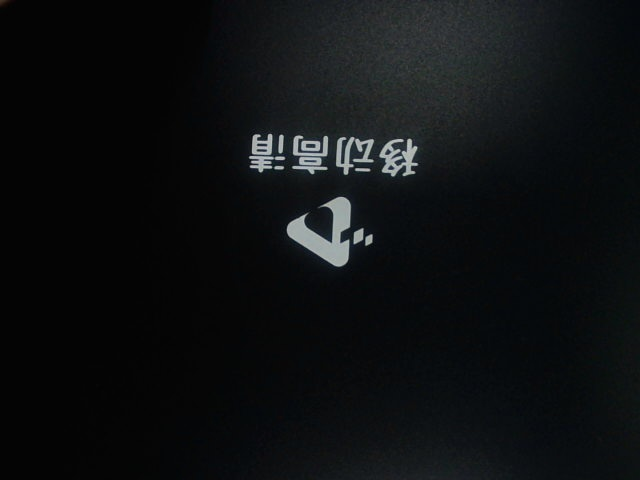AO_MobileHD: (228, 110, 456, 285)
